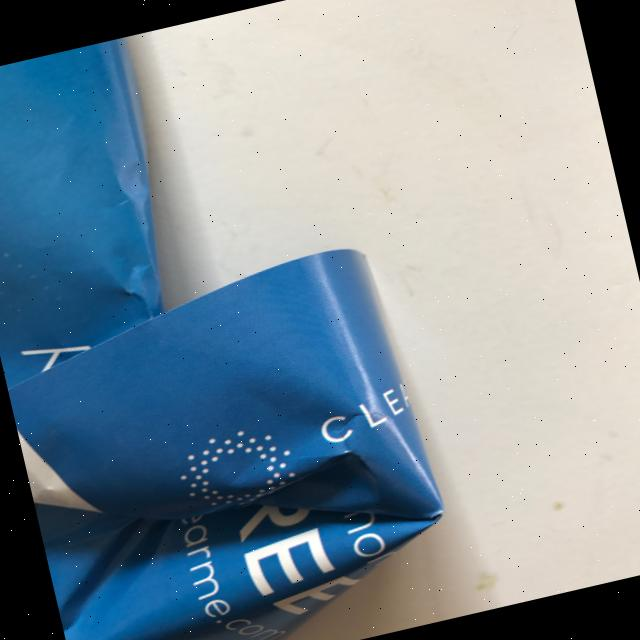paper: (0, 0, 640, 640), (0, 236, 468, 640)
